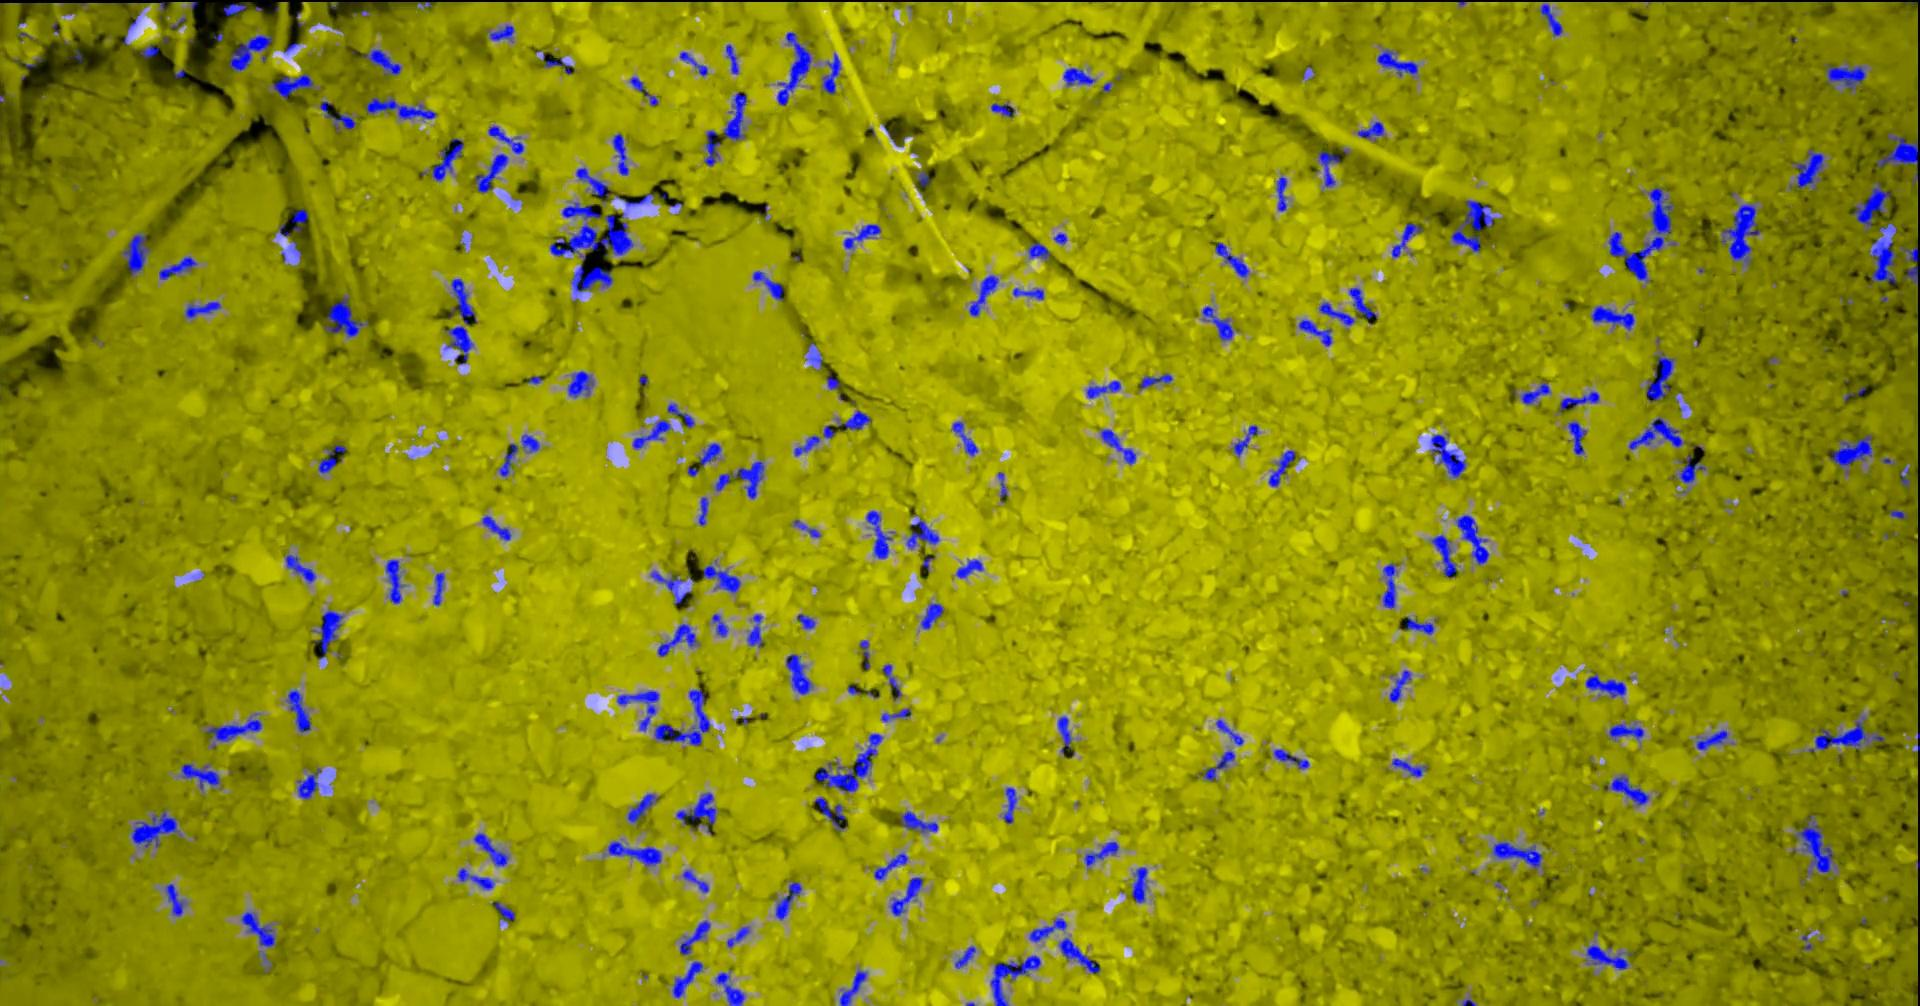ant: (654, 688, 710, 746), (444, 278, 476, 365), (776, 32, 811, 105), (990, 955, 1040, 1005), (1450, 199, 1495, 251), (1815, 716, 1884, 749), (1794, 814, 1832, 873), (323, 296, 368, 337), (714, 461, 763, 498), (1628, 417, 1683, 448), (131, 810, 178, 847), (616, 690, 658, 730), (1851, 182, 1890, 226), (676, 793, 715, 835), (1829, 434, 1872, 473), (229, 34, 273, 71), (1455, 514, 1488, 564), (364, 97, 436, 119), (311, 610, 343, 659), (1430, 434, 1465, 478), (571, 263, 612, 300), (1058, 937, 1100, 973), (1876, 133, 1919, 166), (1644, 352, 1672, 401), (472, 152, 507, 192), (1790, 149, 1823, 189), (650, 572, 691, 605), (432, 138, 463, 180), (1492, 841, 1542, 868), (607, 841, 662, 865), (1605, 775, 1648, 805), (657, 622, 696, 655), (1201, 306, 1238, 340), (890, 876, 923, 915), (865, 511, 891, 558), (968, 276, 998, 316), (1868, 238, 1895, 283), (1100, 429, 1135, 464), (472, 832, 508, 866), (240, 911, 274, 946), (206, 719, 262, 741), (1586, 944, 1633, 969), (575, 166, 610, 201), (122, 232, 149, 276), (1825, 64, 1865, 91), (1215, 243, 1248, 277), (319, 102, 356, 132), (632, 419, 670, 448), (723, 91, 745, 140), (1431, 533, 1457, 577), (1390, 222, 1422, 257), (1377, 50, 1417, 76), (272, 72, 312, 99), (672, 962, 702, 997), (284, 688, 310, 730), (785, 654, 811, 694), (814, 796, 846, 829), (1591, 305, 1634, 329), (702, 565, 740, 592), (775, 882, 801, 920), (714, 972, 744, 1005), (679, 920, 709, 954), (1349, 287, 1377, 323), (1269, 450, 1295, 486), (1585, 673, 1625, 697), (363, 50, 401, 75), (1203, 749, 1234, 780), (905, 518, 938, 547), (488, 126, 523, 152), (839, 969, 866, 1005), (843, 224, 880, 249), (182, 763, 218, 789), (752, 271, 783, 300), (1672, 453, 1705, 481), (157, 255, 196, 279), (284, 554, 315, 583), (627, 793, 658, 822), (1029, 917, 1065, 941), (1298, 319, 1331, 345), (951, 420, 977, 455), (872, 854, 907, 879), (1318, 301, 1354, 325), (1558, 391, 1599, 412), (456, 868, 494, 889), (629, 76, 657, 105), (1084, 841, 1117, 865), (900, 810, 937, 832), (385, 559, 403, 603), (317, 445, 345, 473), (822, 53, 841, 94), (1232, 426, 1257, 456), (1318, 150, 1340, 185), (297, 767, 321, 799), (1539, 3, 1562, 36), (1215, 719, 1243, 746), (481, 514, 510, 540), (1900, 246, 1919, 285), (679, 51, 707, 76), (568, 370, 593, 398), (1272, 749, 1309, 768), (836, 410, 870, 431), (612, 133, 629, 175), (1389, 669, 1410, 702), (1382, 561, 1396, 608), (883, 664, 902, 699), (667, 403, 693, 427), (1608, 723, 1643, 741), (1390, 758, 1426, 776), (1520, 382, 1549, 404), (561, 202, 599, 218), (1567, 420, 1586, 453), (165, 883, 184, 916), (1086, 380, 1120, 398), (1398, 616, 1432, 634), (682, 869, 709, 892), (542, 55, 574, 74), (184, 301, 220, 318), (499, 443, 517, 476), (919, 603, 943, 627), (1697, 730, 1727, 749), (1063, 67, 1095, 85), (745, 614, 762, 647), (703, 130, 719, 165), (792, 434, 819, 455), (1131, 868, 1147, 902), (1057, 716, 1070, 753), (955, 559, 982, 578), (792, 520, 820, 537), (1002, 788, 1016, 823), (698, 442, 720, 465), (1356, 121, 1383, 138), (616, 193, 653, 206), (728, 926, 749, 948), (954, 946, 975, 968), (491, 901, 514, 921), (1139, 373, 1172, 387), (489, 24, 514, 42), (880, 708, 910, 721), (291, 208, 307, 231), (1027, 243, 1050, 259), (433, 572, 444, 605), (711, 614, 728, 636), (990, 102, 1015, 117), (725, 44, 738, 72), (1012, 287, 1043, 298), (1276, 177, 1286, 210), (521, 434, 538, 452), (222, 3, 246, 15), (997, 471, 1007, 500), (858, 640, 869, 669), (698, 497, 709, 525), (796, 614, 814, 627), (138, 44, 157, 57), (1898, 465, 1909, 486), (916, 171, 930, 185), (825, 375, 839, 389), (823, 424, 836, 438), (1890, 509, 1907, 518), (1053, 232, 1065, 243)
